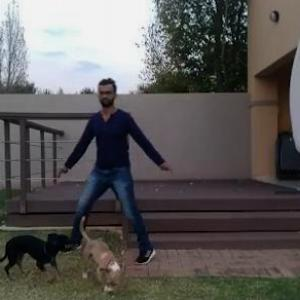land: (70, 92, 176, 265)
